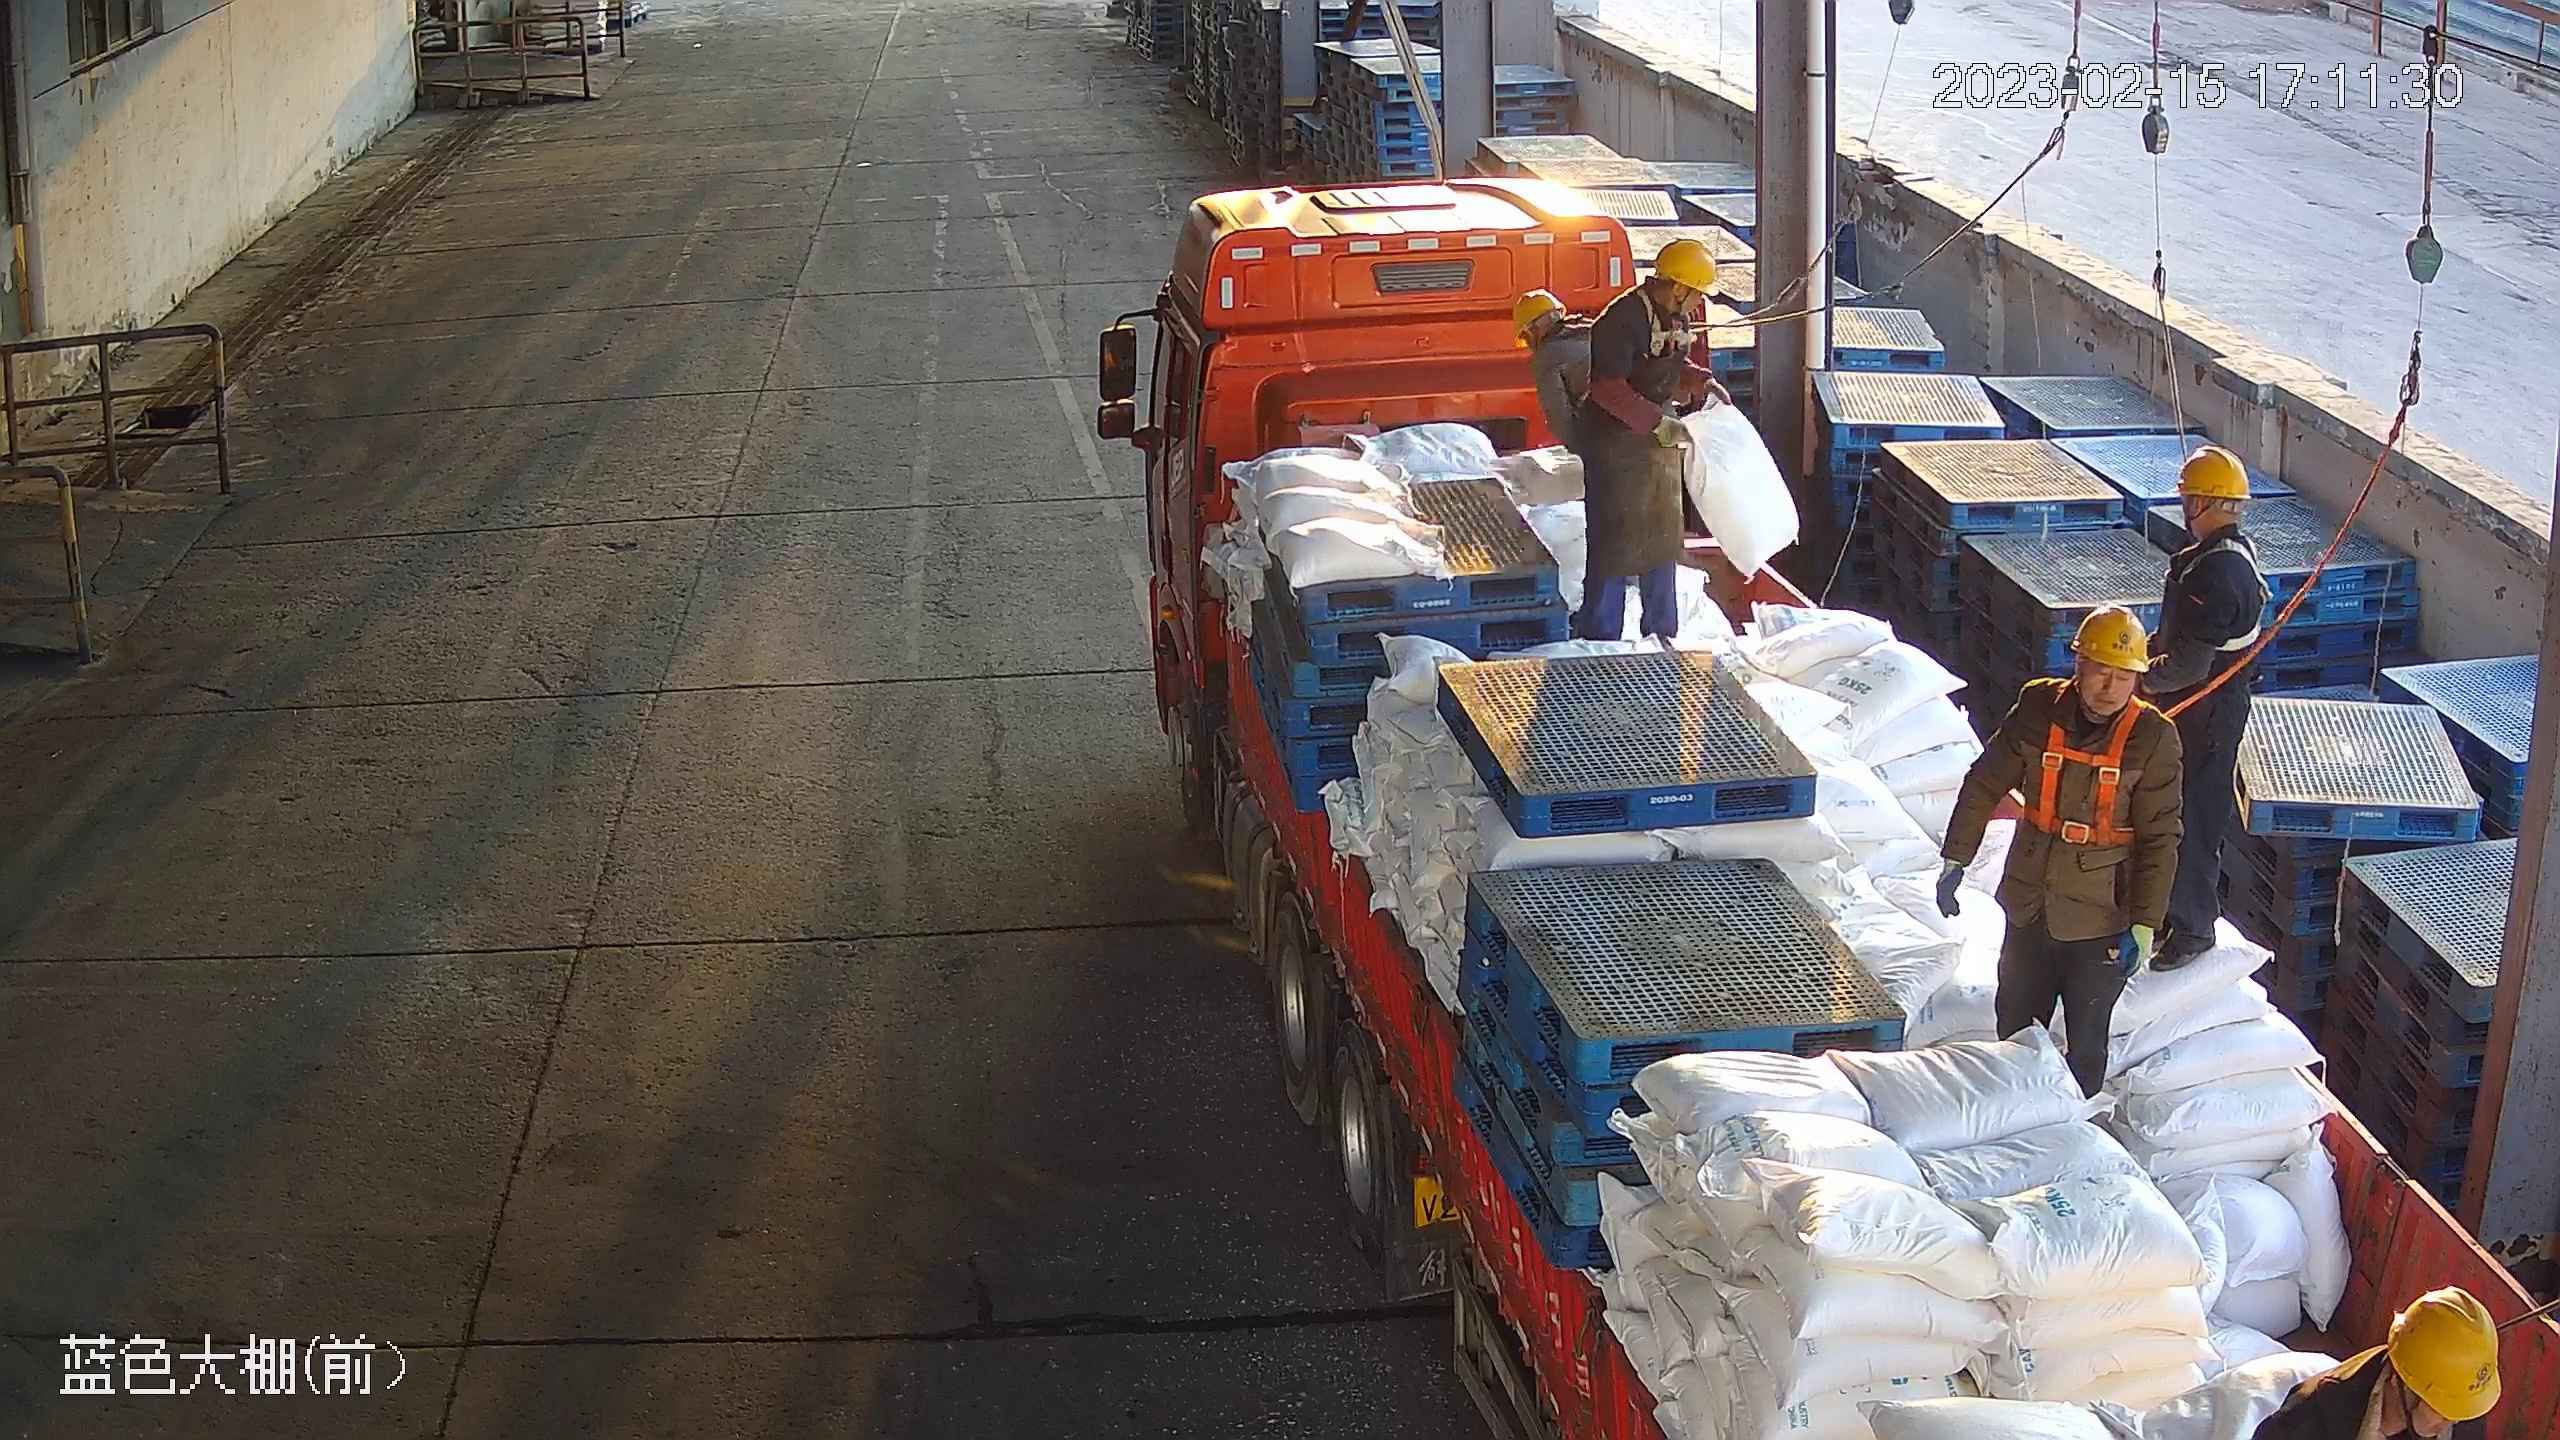belt: (2020, 689, 2183, 845), (2183, 537, 2286, 640), (2339, 1389, 2467, 1440), (1625, 286, 1712, 357)
head: (2271, 1288, 2510, 1440), (1998, 606, 2178, 794), (2152, 444, 2264, 605), (1600, 239, 1718, 356), (1512, 294, 1600, 400)
helmet: (2388, 1288, 2503, 1418), (2073, 608, 2151, 674), (2173, 444, 2256, 503), (1652, 237, 1718, 294), (1512, 289, 1573, 345)
people: (1935, 606, 2188, 1111), (2142, 442, 2267, 976), (1588, 233, 1722, 642)
truck: (1095, 178, 2560, 1440)
